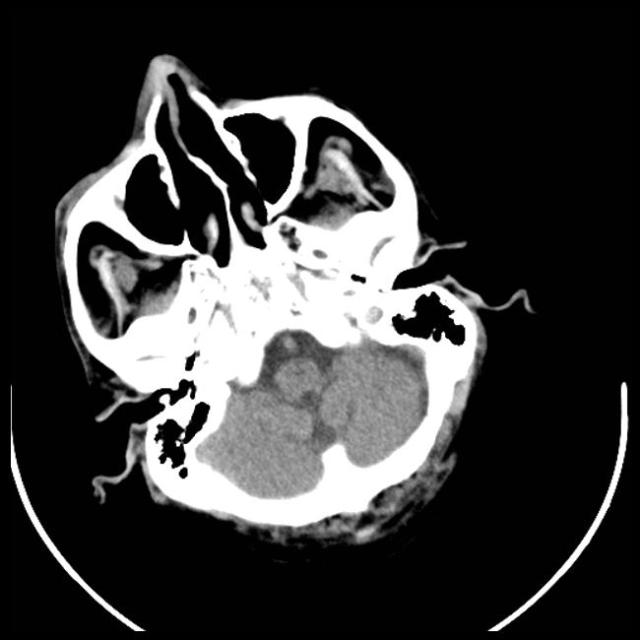lesion: (49, 52, 535, 550)
